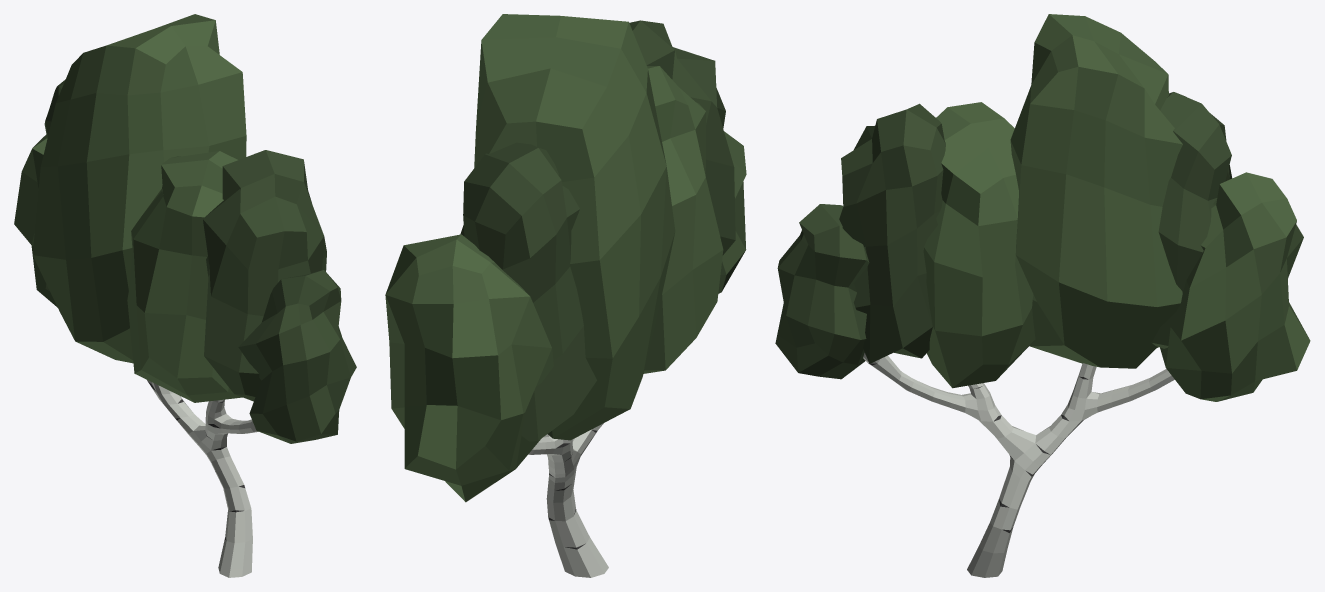
File: BirchTree_4.gltf
3 renders of one model, left to right at view 1: azimuth 30°, elevation 25°; view 2: azimuth 150°, elevation 25°; view 3: azimuth 270°, elevation 25°, orthographic. The views are drawn at different scales.
Visible parts, largest first — view 1: BirchTree_4; view 2: BirchTree_4; view 3: BirchTree_4.
Part boxes in pixels (box(x1,y1,x2,y2)): BirchTree_4: box(14, 14, 356, 577); BirchTree_4: box(385, 14, 746, 577); BirchTree_4: box(775, 14, 1310, 577).
Size of the model in its own units: 1.15 by 3.56 by 3.29.
